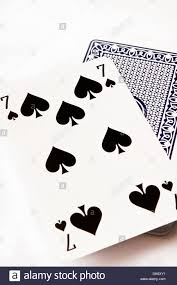seven of spades: (1, 57, 177, 261)
